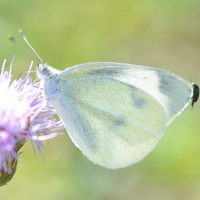insect: (36, 62, 197, 168)
